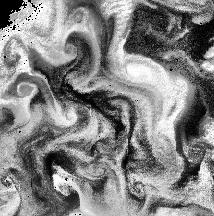CE: (127, 171, 145, 199), (15, 80, 37, 100), (60, 42, 80, 63), (71, 8, 90, 28)
